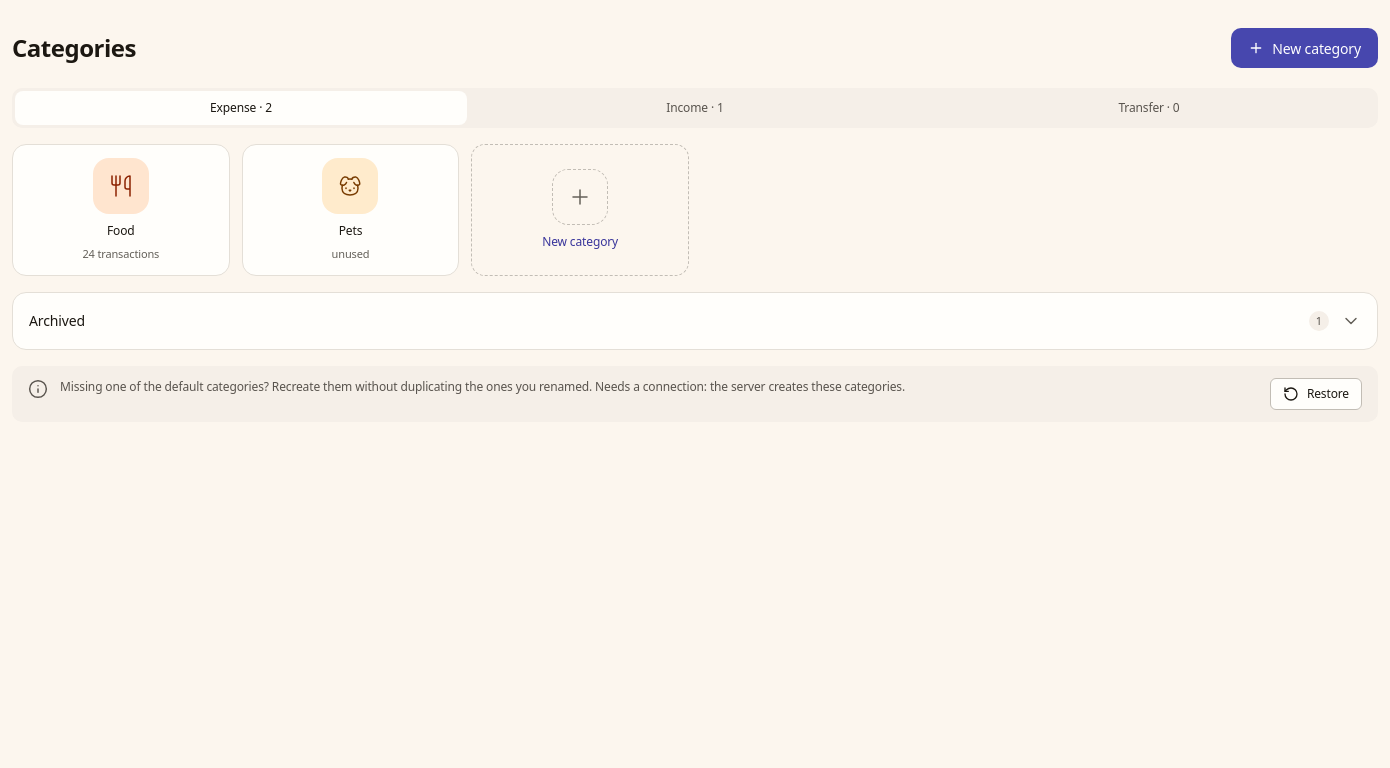
it: CategoriesView › recreates the default categories and reports how many were missing
This screenshot has width=1390, height=768.
What coordinates should you click on to do the following:
click the button named "Restore"
I would click on:
 (1316, 394)
Its box is [1270,378,1362,410].
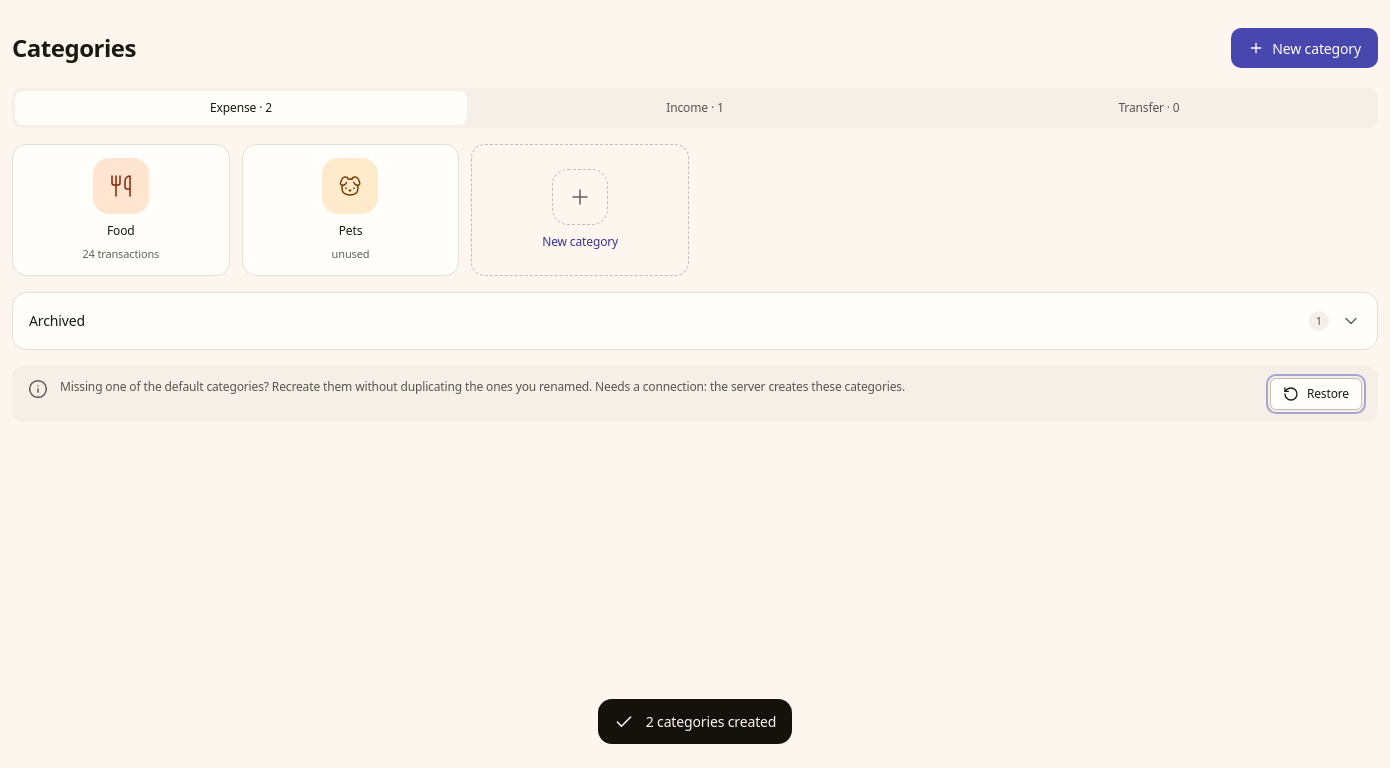
Check: the text "2 categories created" is shown, box [598,699,792,744]
